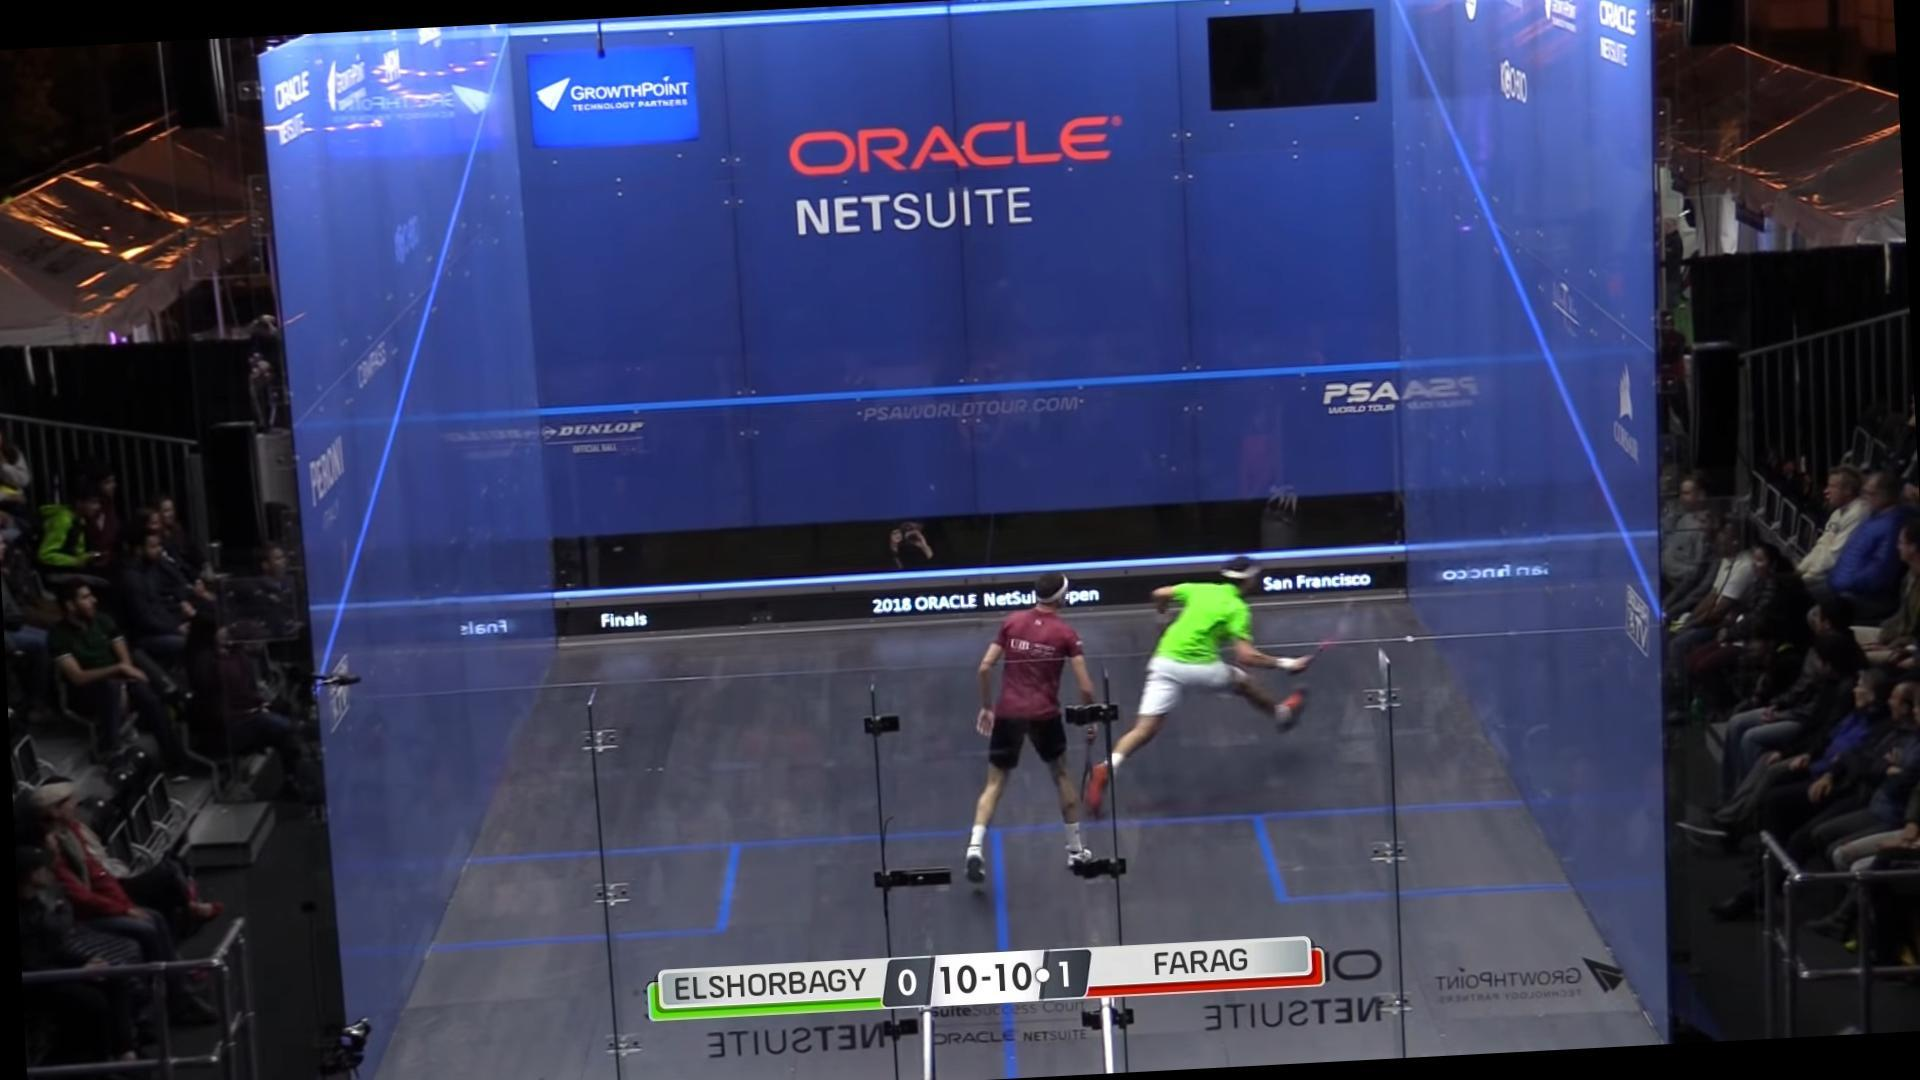Squash-Ball: (1391, 621, 1425, 658)
